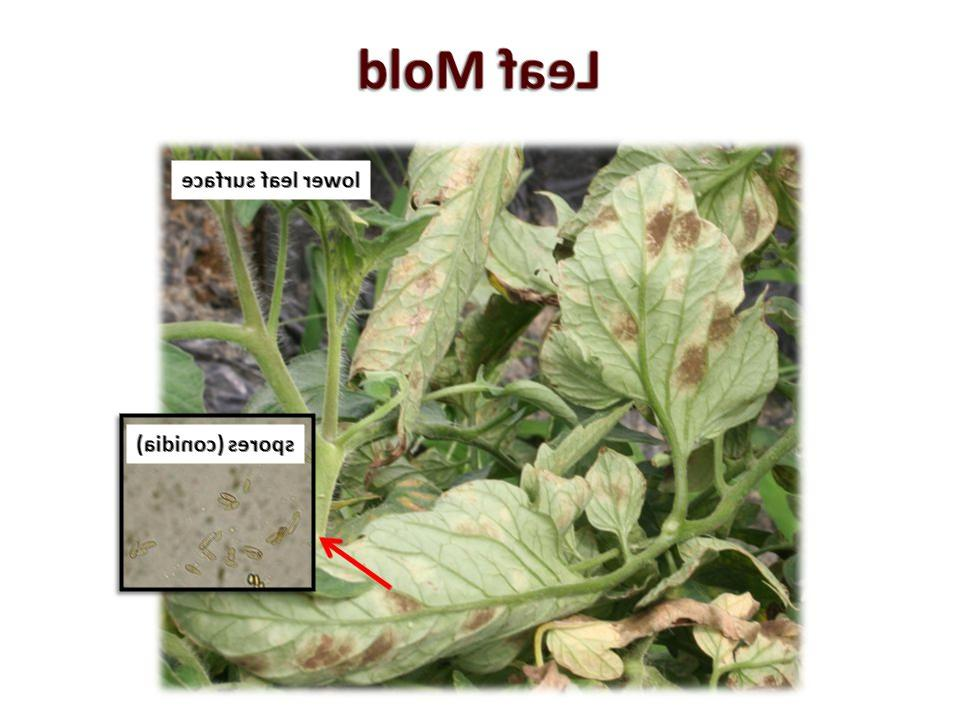Tomato mold leaf: (180, 463, 597, 680), (552, 158, 781, 460), (352, 148, 542, 435), (579, 444, 657, 544)
